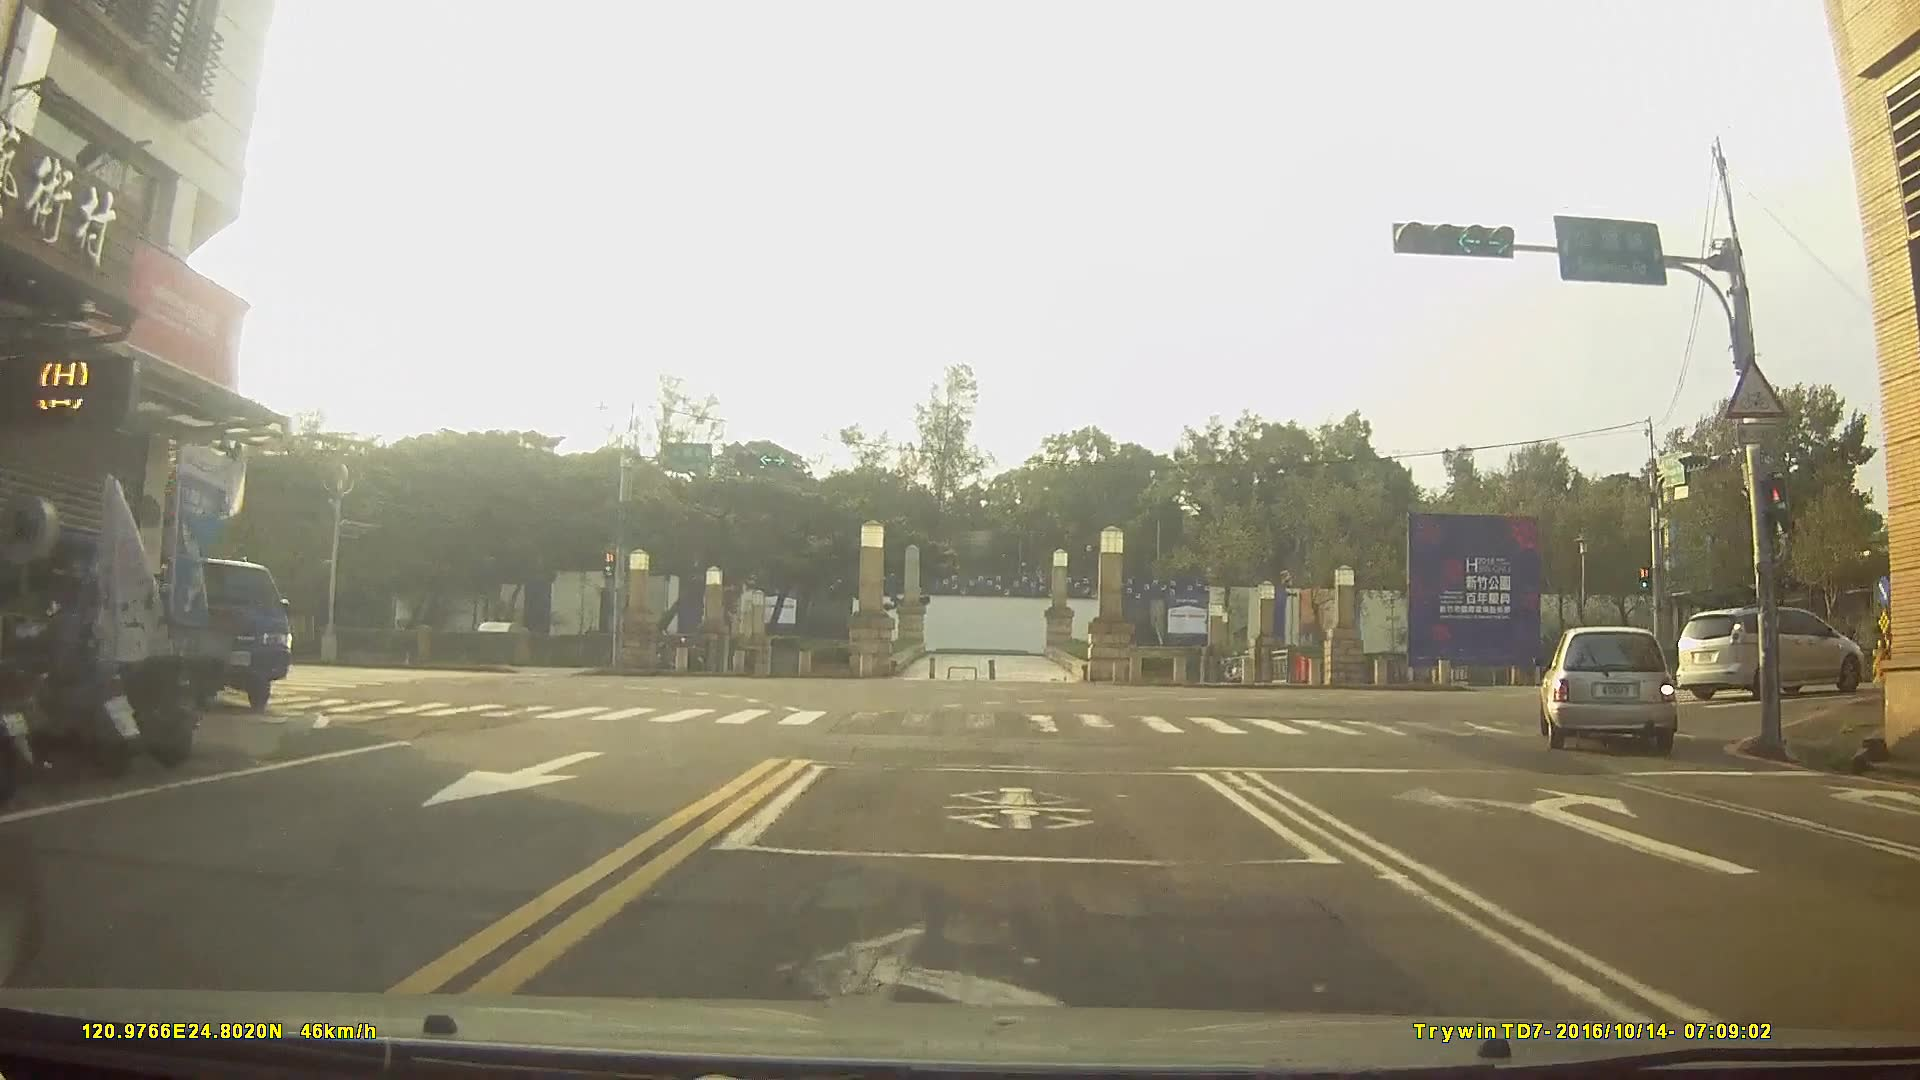vehicle: (164, 554, 289, 712), (1538, 622, 1679, 752), (1673, 603, 1865, 698)
